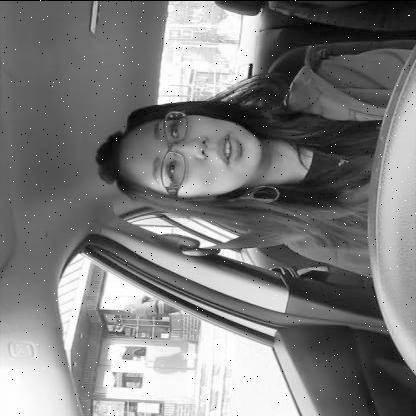seatbelt: (93, 86, 376, 254)
